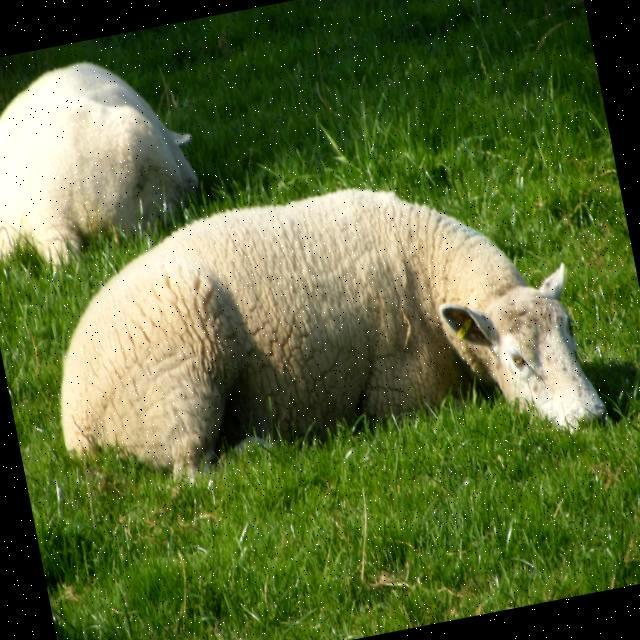sheep: (59, 185, 604, 480), (0, 59, 198, 267)
